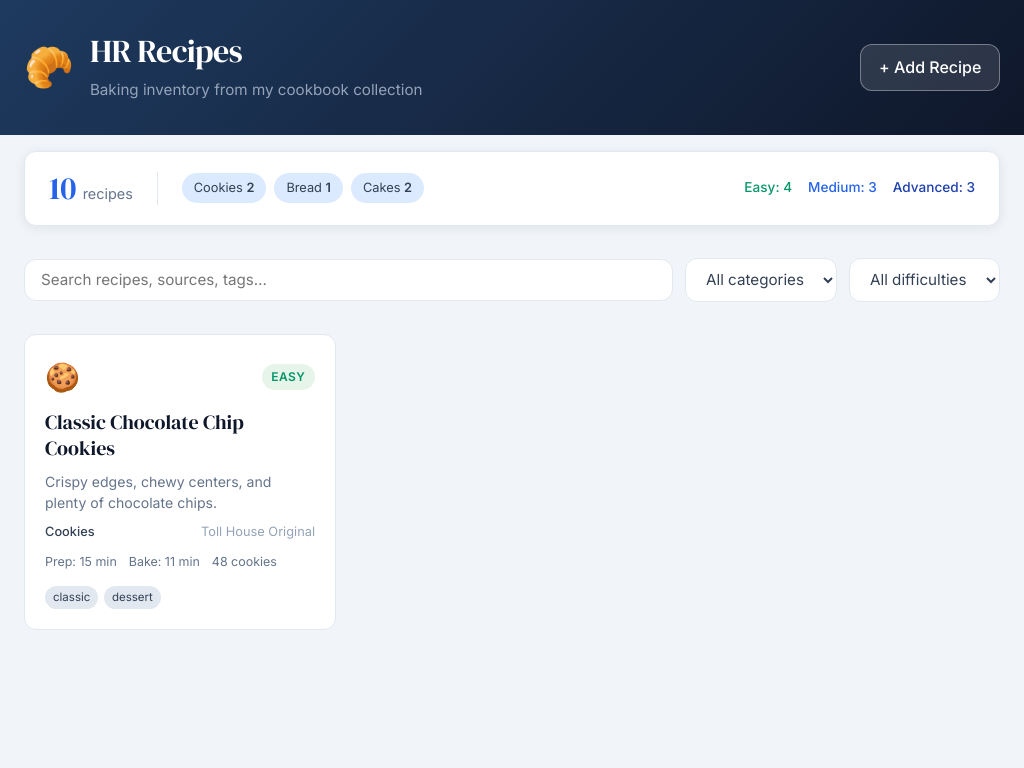
App › opens recipe detail modal when a card is selected
Expected: the heading "Classic Chocolate Chip Cookies" is shown, 45,408 -> 244,462
Step 1. Click the button "Classic Chocolate Chip Cookies" → (180, 482), box 24,334 -> 336,630
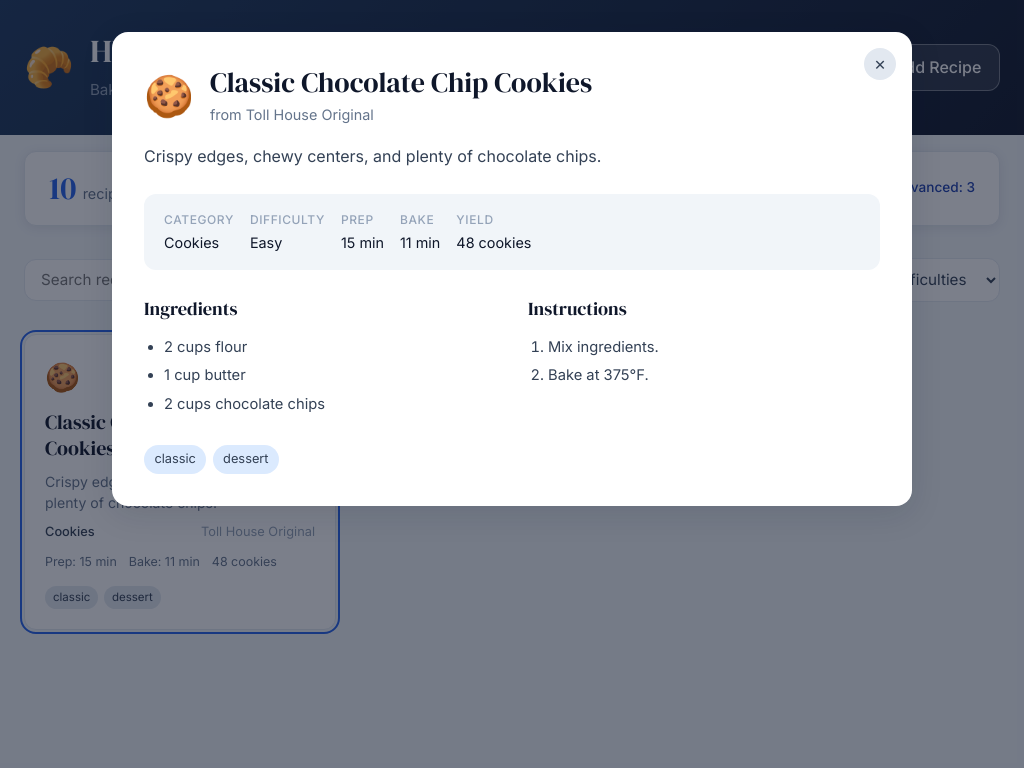
Expected: the dialog is shown, 112,32 -> 912,506
Expected: the heading "Ingredients" is shown, 144,296 -> 237,321
